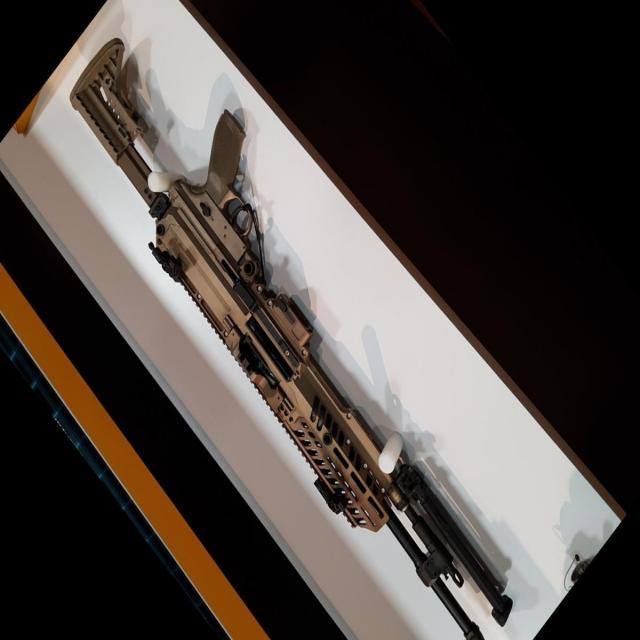weapon: (67, 35, 515, 640)
